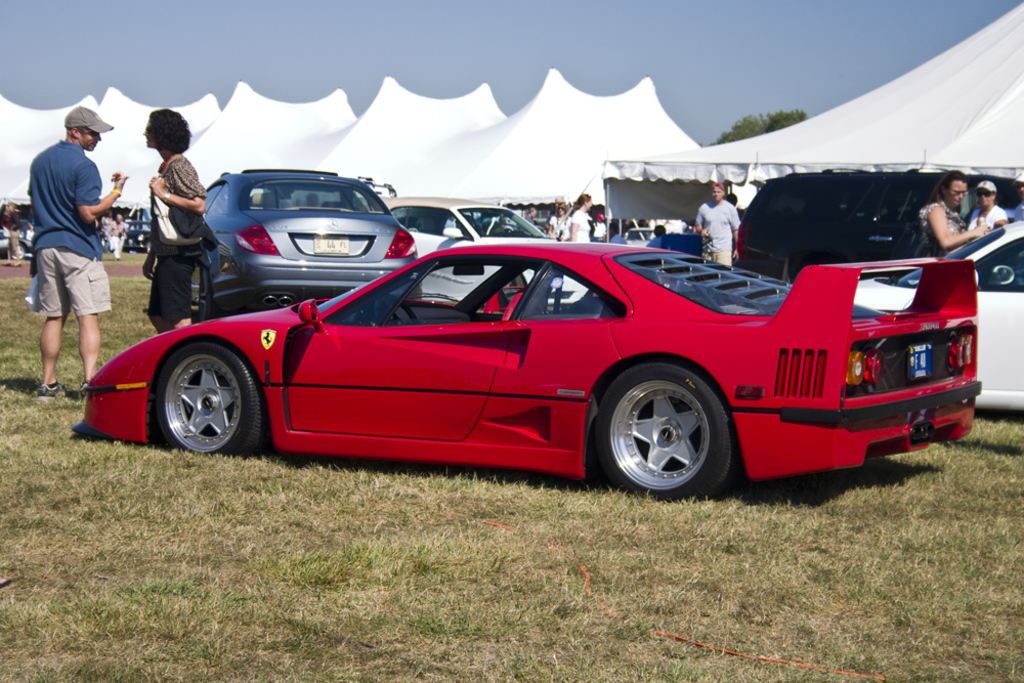Car: (58, 223, 940, 492), (149, 161, 415, 325), (854, 219, 1022, 408), (386, 196, 589, 313)
